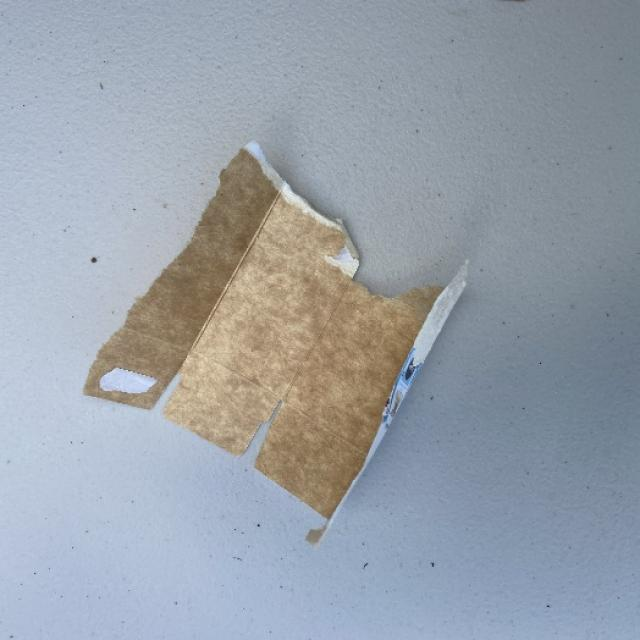kertas: (110, 143, 464, 514)
